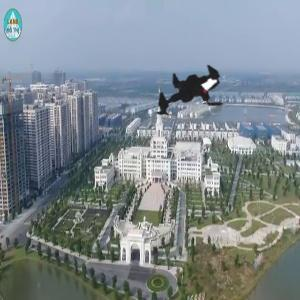drone: (136, 42, 249, 155)
